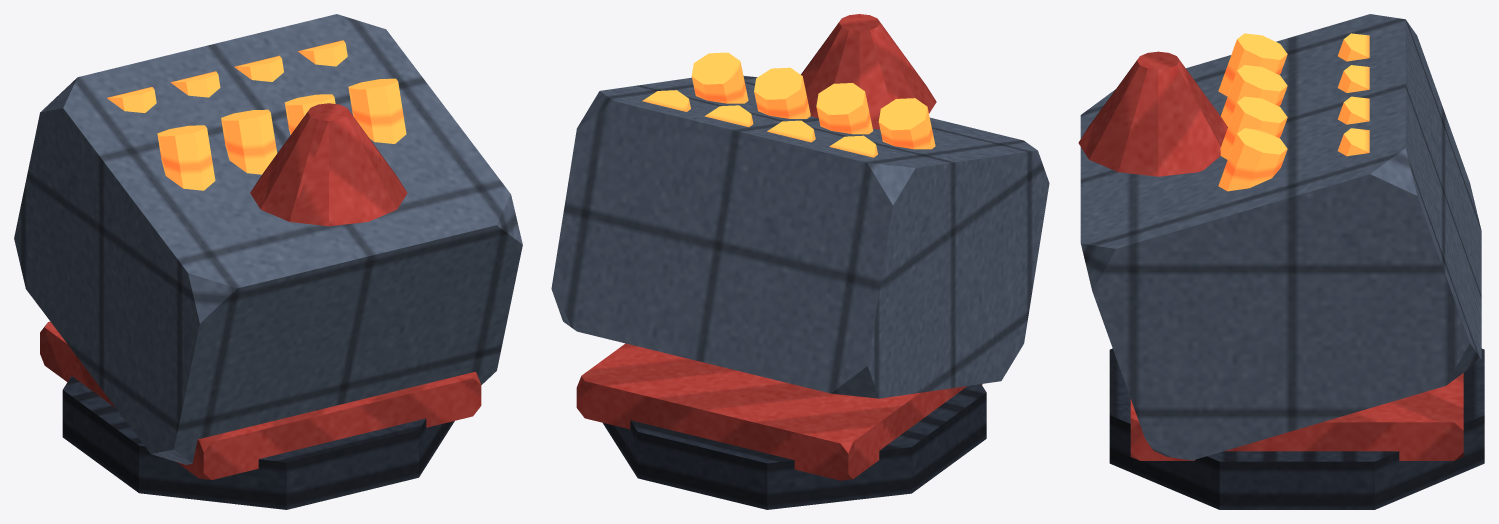
Rendered from eq_missile_battery.glb.
3 renders of one model, left to right at view 1: azimuth 30°, elevation 25°; view 2: azimuth 150°, elevation 25°; view 3: azimuth 270°, elevation 25°, orthographic. The views are drawn at different scales.
Visible parts, largest first — view 1: eq_missile_battery; view 2: eq_missile_battery; view 3: eq_missile_battery.
Boxes of the visible parts, x1,y1,x2,y2 form: eq_missile_battery: (14, 14, 522, 509); eq_missile_battery: (551, 14, 1049, 509); eq_missile_battery: (1078, 14, 1484, 509).
Size of the model in its own units: 1.42 by 1.53 by 1.52.
Materials: 1 (1 with a texture image).
